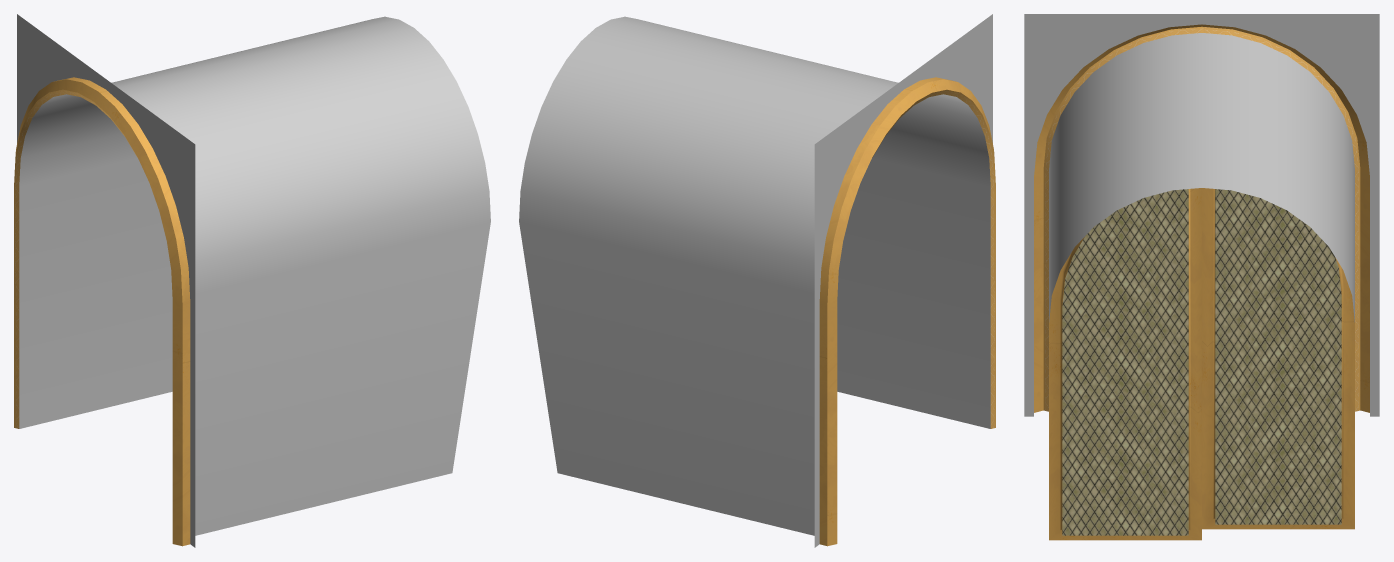
File: SM_Wall_Opened_02.fbx
3 views of the same model, side by side, from view 1: azimuth 30°, elevation 25°; view 2: azimuth 150°, elevation 25°; view 3: azimuth 270°, elevation 25° (orthographic).
Parts seen in each view (by area): view 1: SM_Wall_Opened_02_LOD0; view 2: SM_Wall_Opened_02_LOD0; view 3: SM_Wall_Opened_02_LOD0.
Boxes of the visible parts, x1,y1,x2,y2 form: SM_Wall_Opened_02_LOD0: [14, 14, 490, 547]; SM_Wall_Opened_02_LOD0: [519, 14, 995, 547]; SM_Wall_Opened_02_LOD0: [1024, 14, 1379, 540].
Size of the model in its own units: 832 by 800 by 1000.
